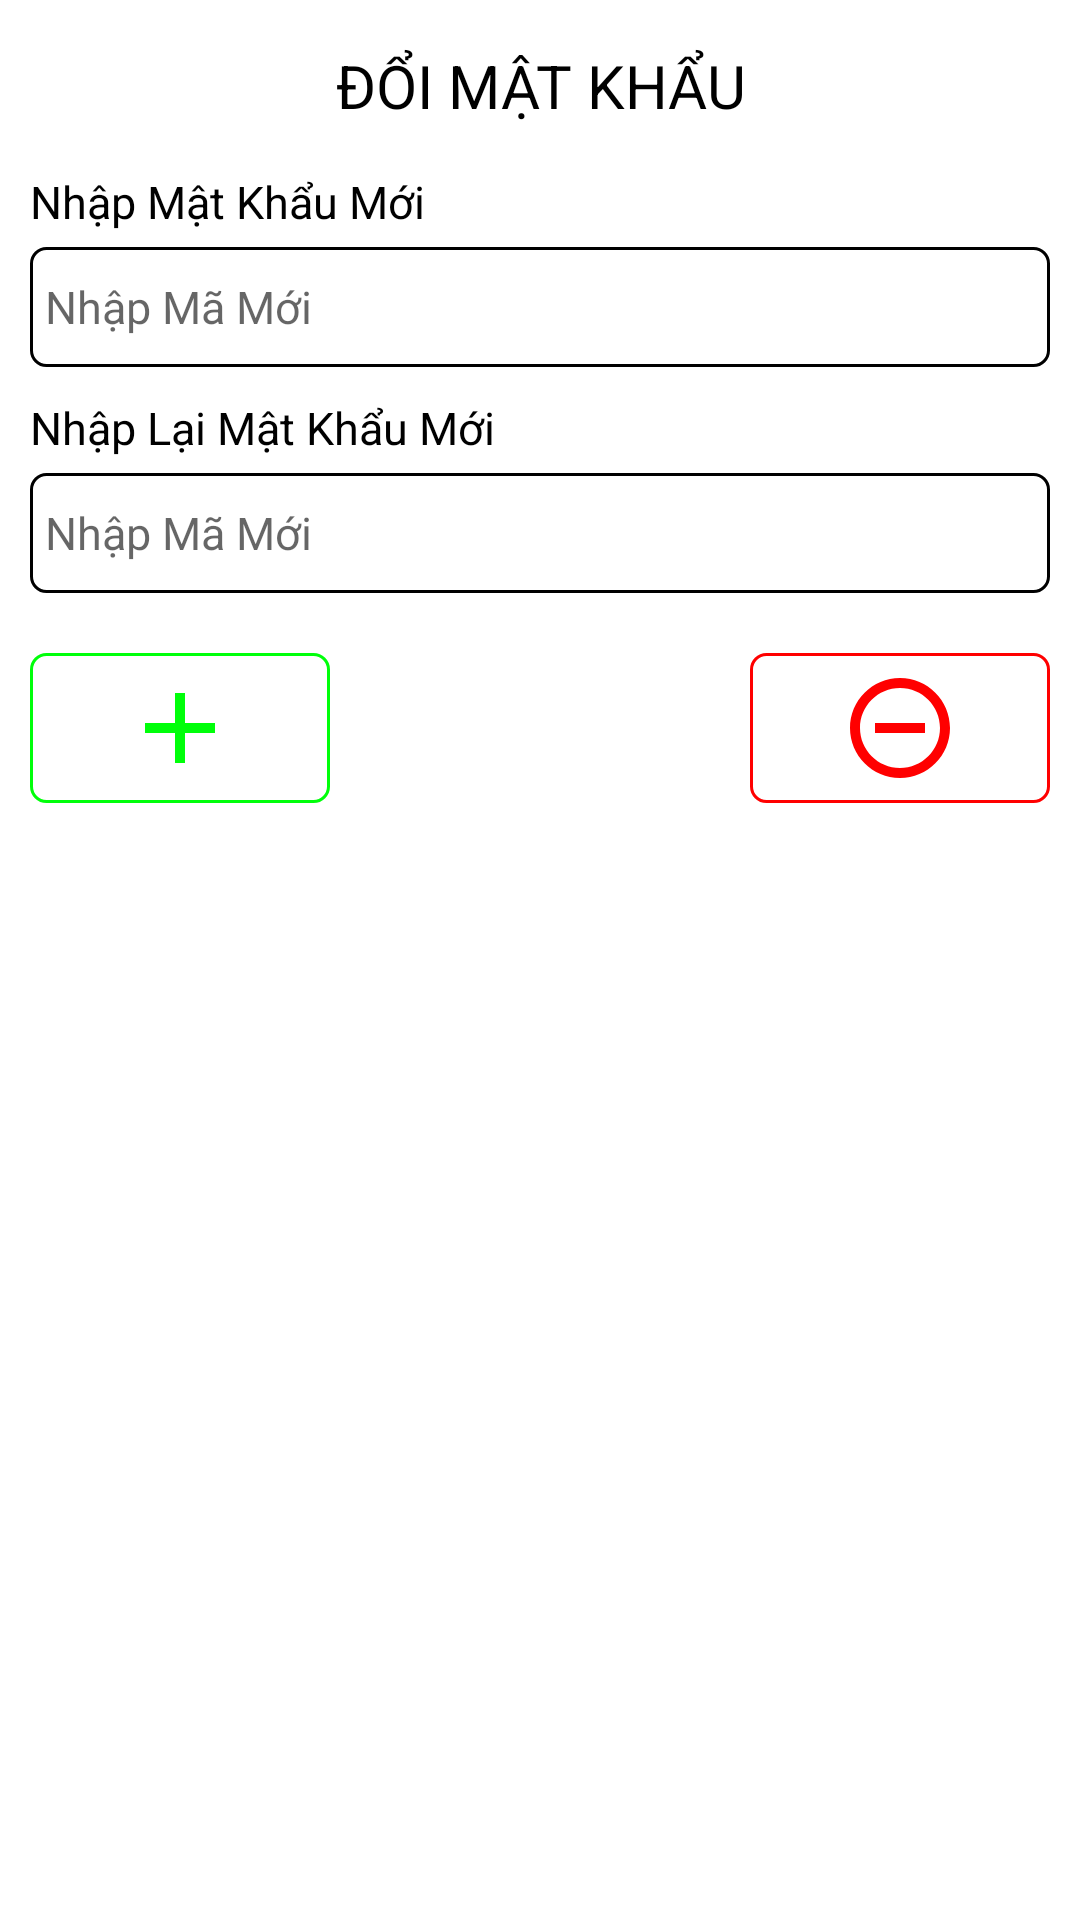

Where icons sit on this 1080px×1920px app screen, as region(x1, y1, x2, y2):
add: region(30, 653, 330, 803)
iconcancel: region(750, 653, 1050, 803)
